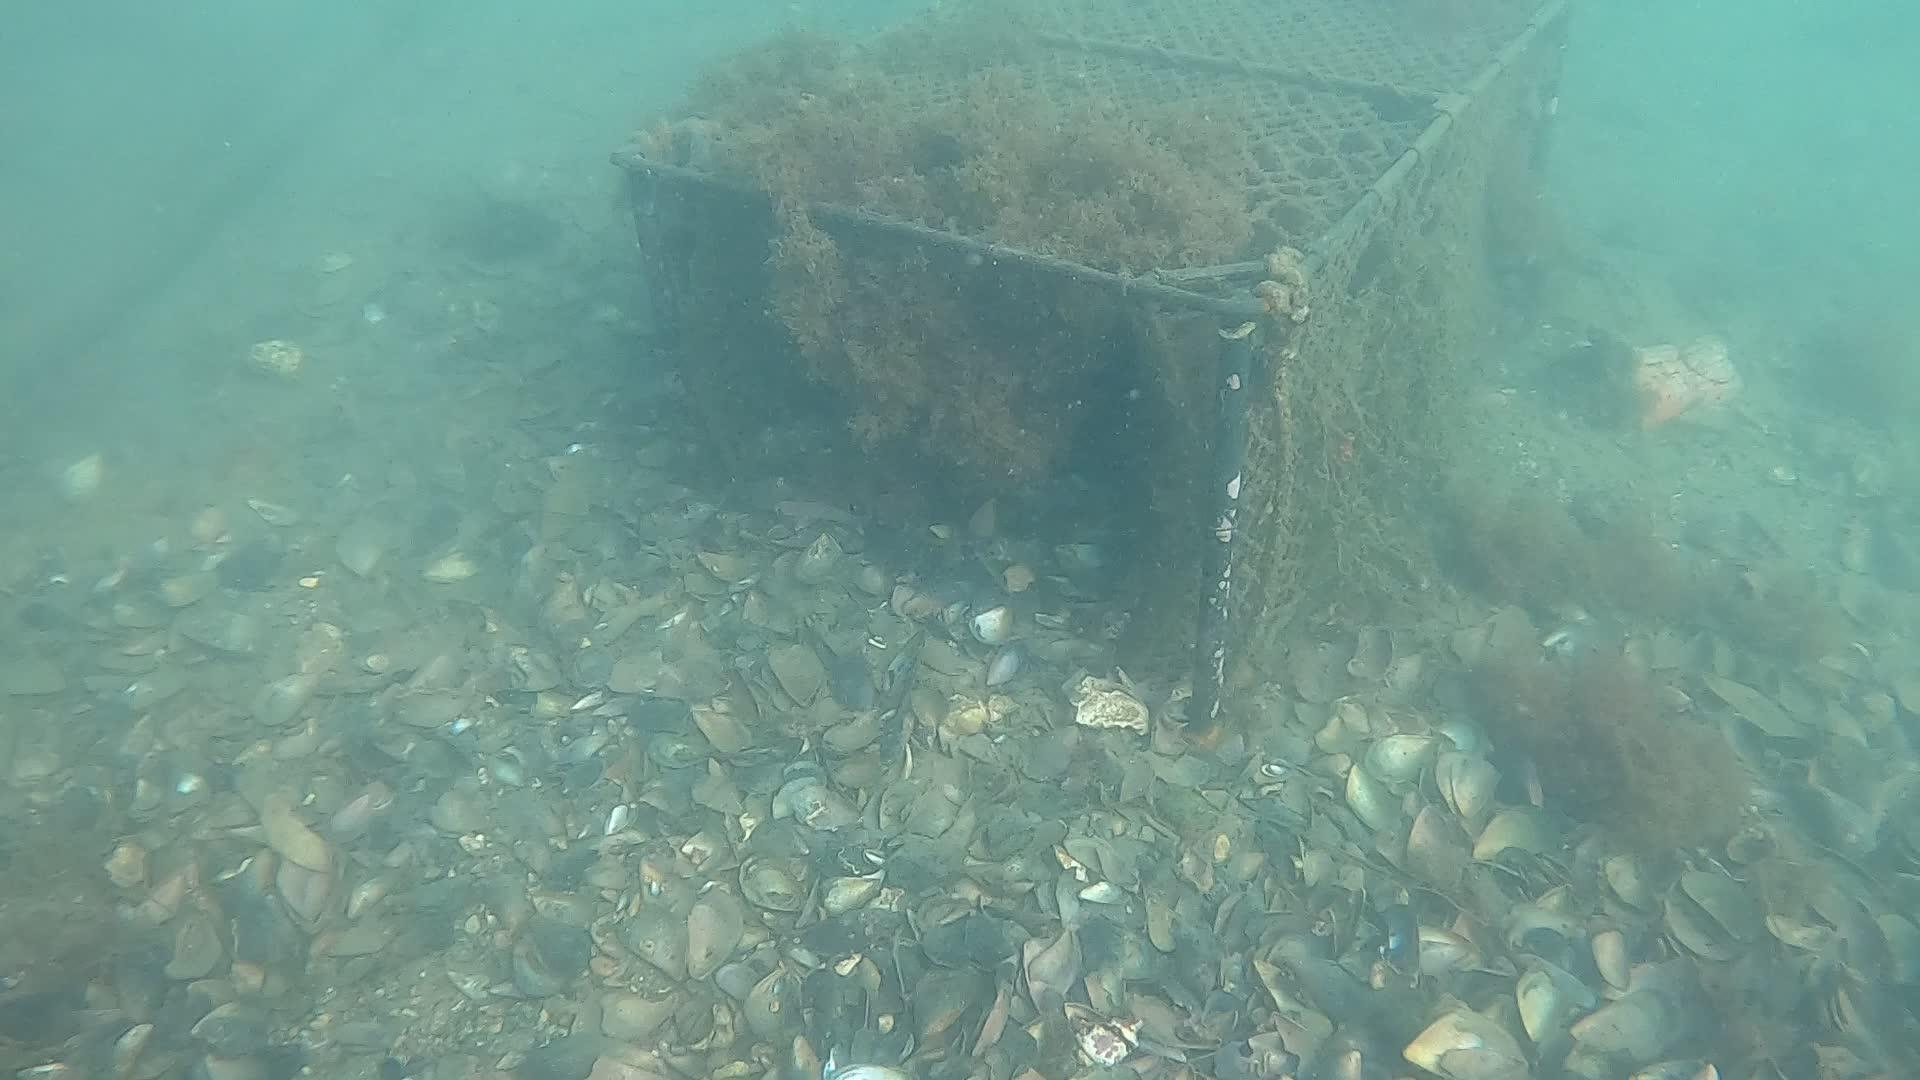rectangular fish trap: (607, 0, 1572, 738)
